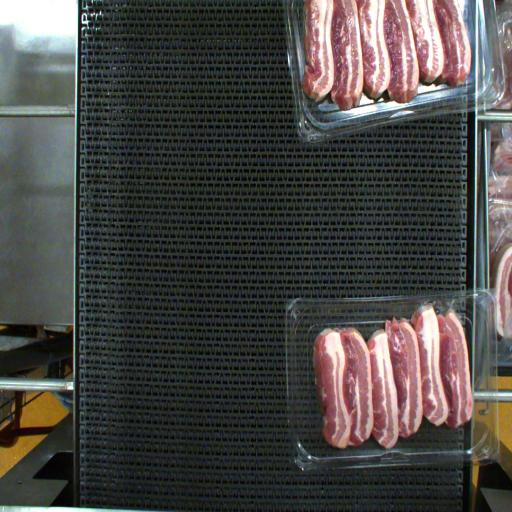packaging-error: (390, 286, 480, 327)
